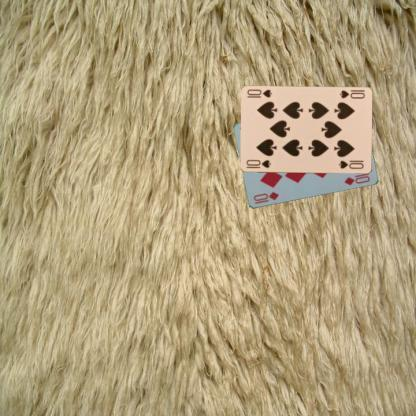10d: (251, 189, 280, 205)
10s: (243, 157, 272, 169), (337, 88, 366, 100)
